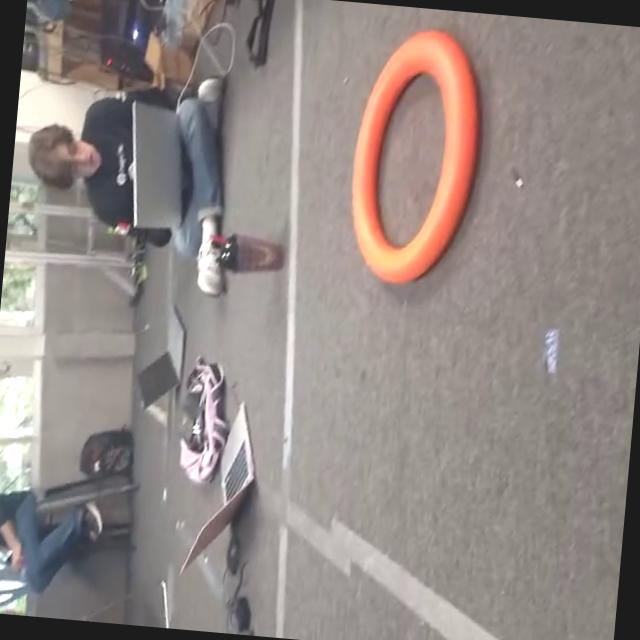note: (338, 20, 500, 308)
